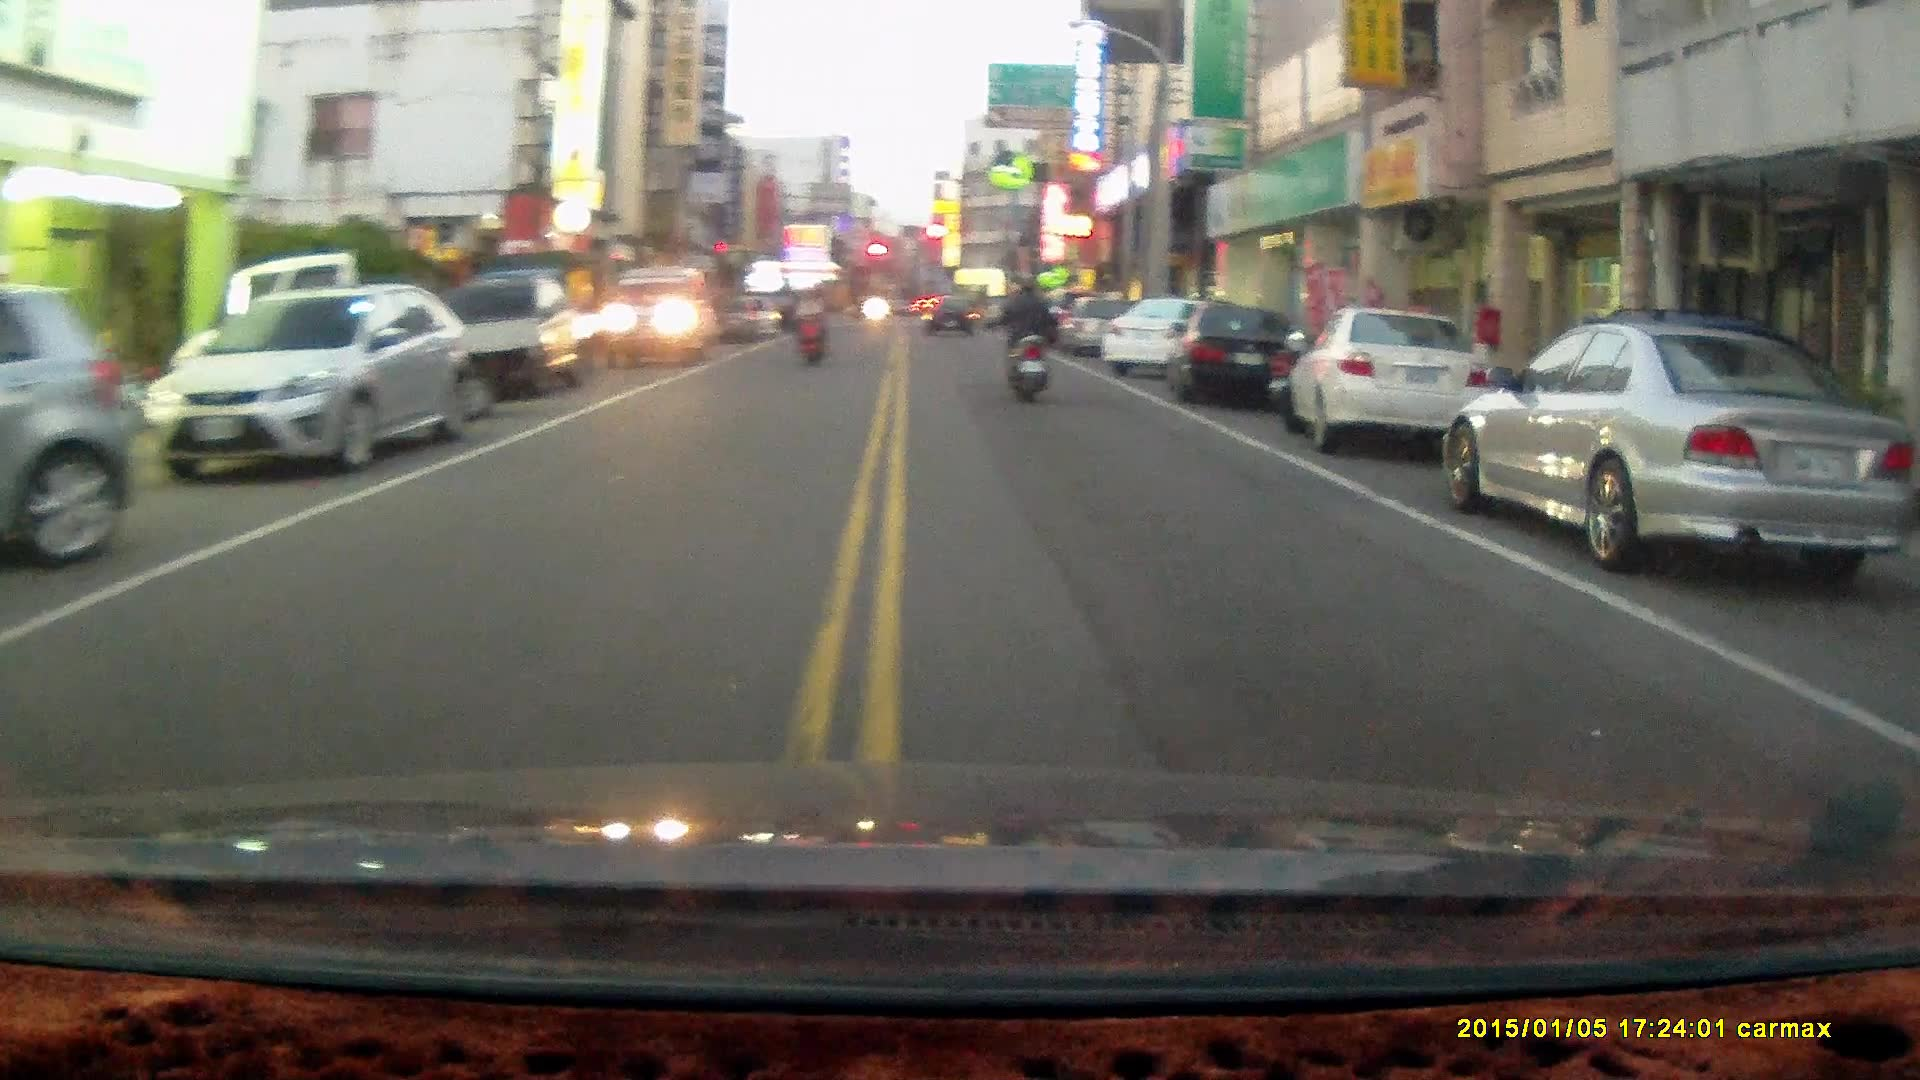rider: (993, 273, 1049, 404), (792, 284, 827, 365)
vehicle: (1449, 320, 1905, 582), (146, 282, 470, 475), (1, 283, 137, 580), (1283, 308, 1506, 455), (436, 270, 581, 404), (1173, 299, 1305, 410), (598, 265, 714, 369), (1098, 295, 1233, 378)
